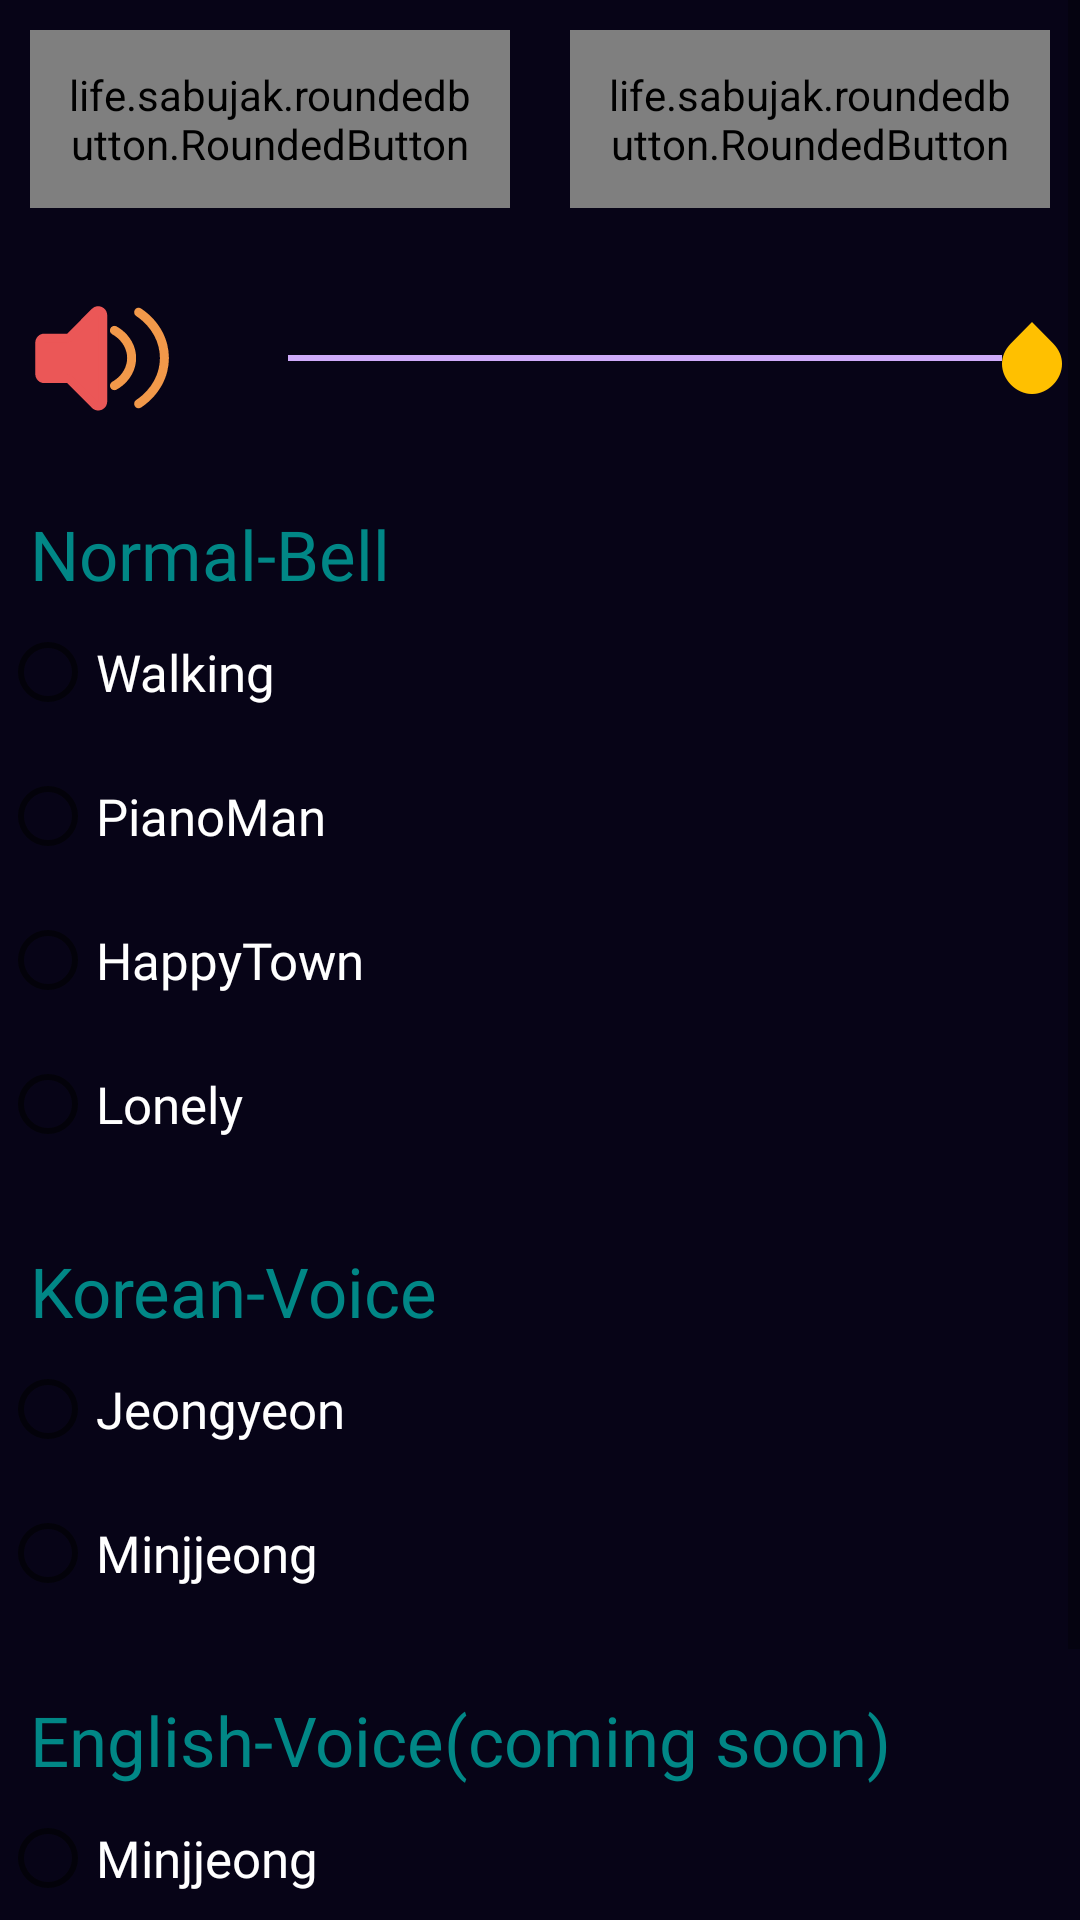

Where icons sit on this 1080 x 1920 app screen, as (x1, y1, x2, y2):
volume: (35, 306, 169, 411)
